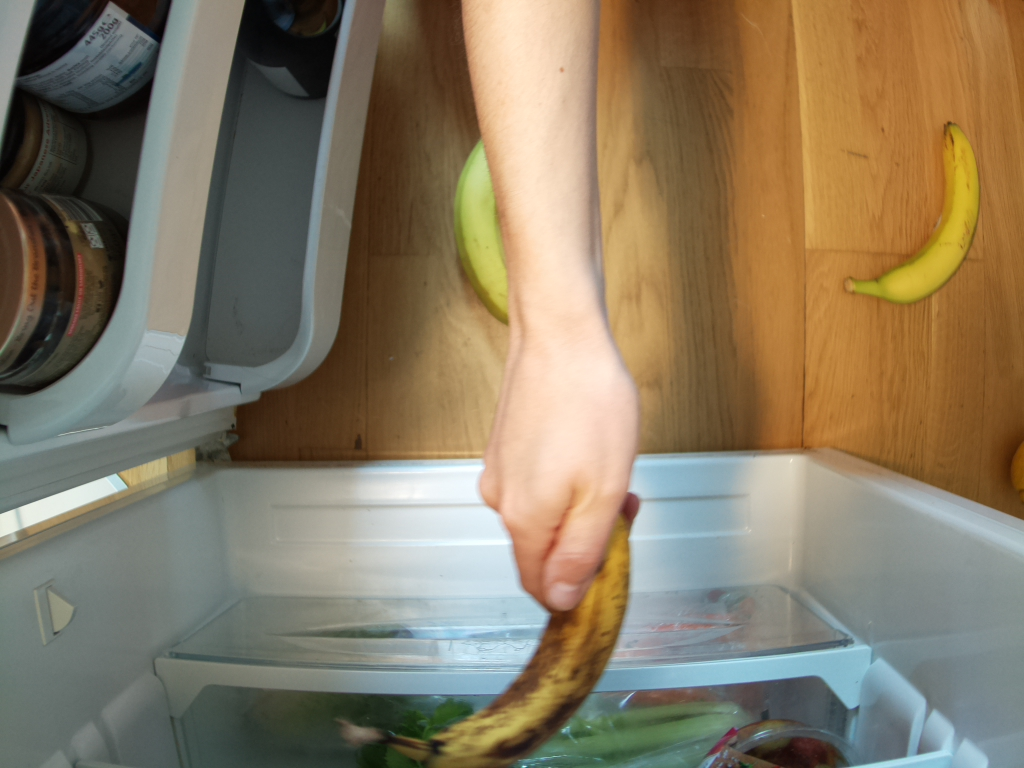banana-overripe: (338, 494, 631, 768)
banana-unripe: (840, 121, 982, 308), (452, 140, 515, 331)
